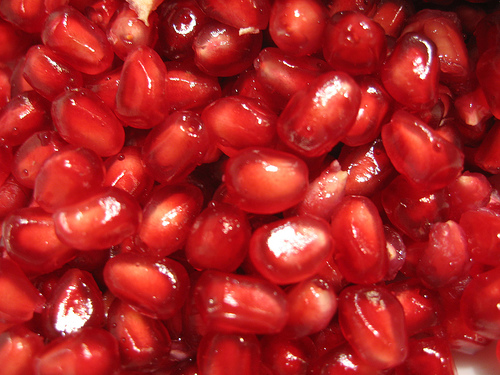pomogranate: (1, 1, 499, 373)
